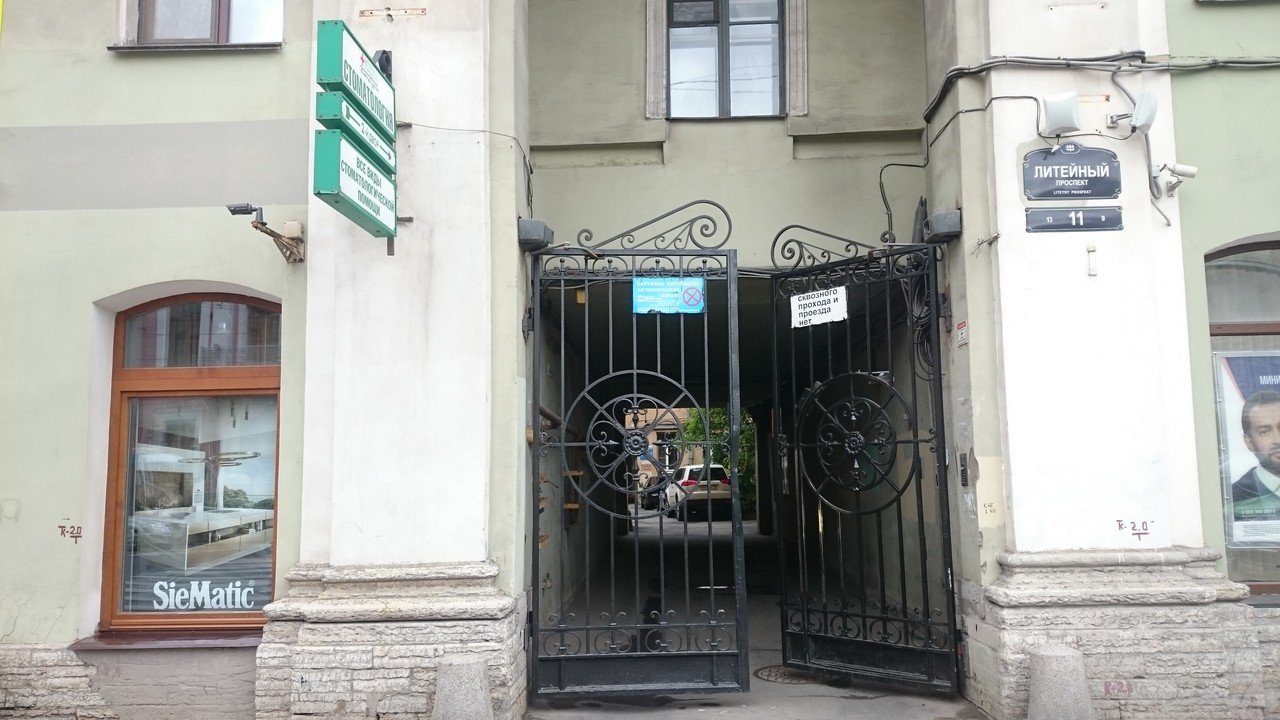arch: (529, 264, 973, 712)
cantilever: (311, 12, 415, 256)
window: (99, 290, 282, 634), (665, 1, 784, 121)
